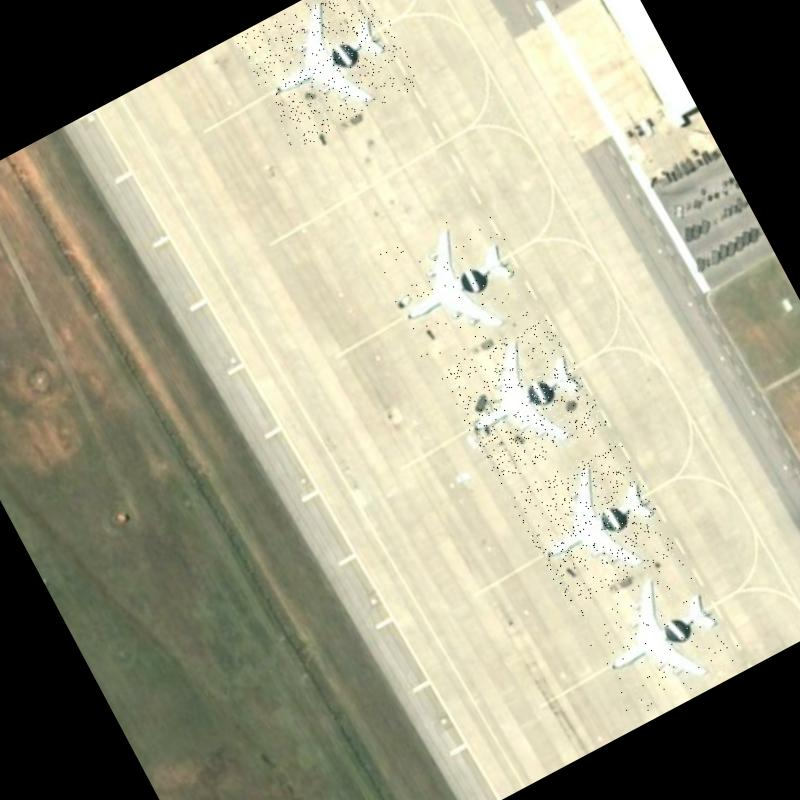A7: (368, 198, 542, 372), (573, 550, 749, 722), (508, 437, 678, 609), (439, 313, 608, 485), (234, 0, 423, 152)
